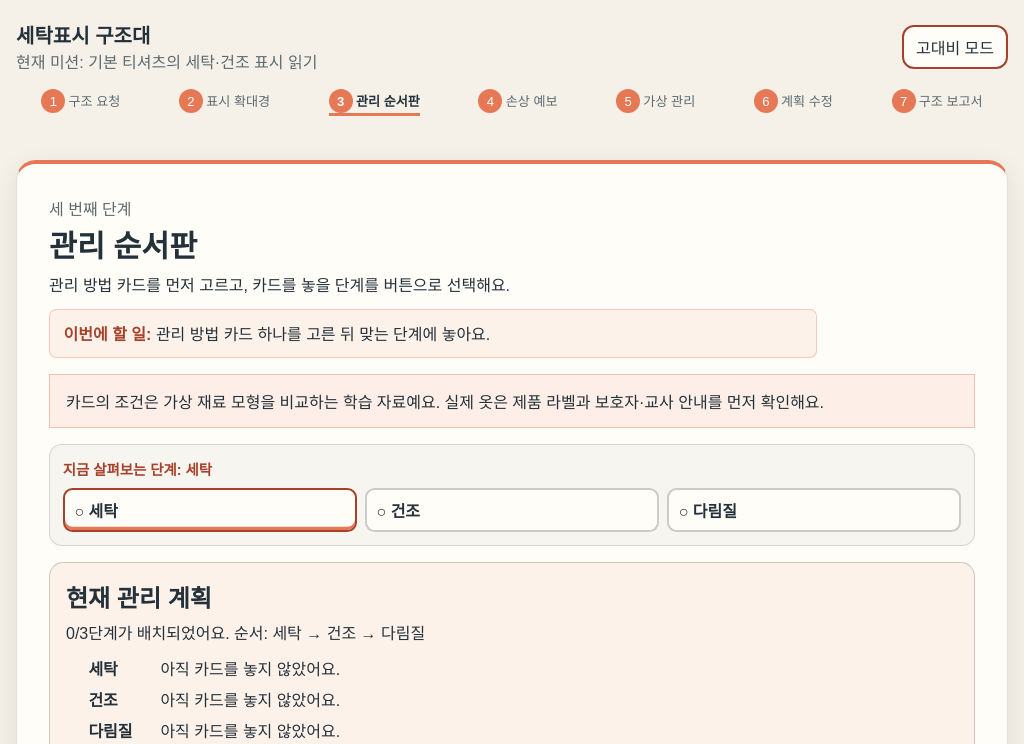
Test case: Task 9 접근 가능한 관리 순서판 › 관리 단계 navigator가 현재 작업 단계와 완료 단계를 문자로 보여 준다
The image size is (1024, 744).
Expected: the text "이번에 할 일: 관리 방법 카드 하나를 고른 뒤 맞는 단계에 놓아요." is shown, left=49, top=309, right=817, bottom=358
Expected: the navigation bar named "관리 단계" is shown, left=49, top=444, right=975, bottom=546
Click the button with aria-label "건조 단계 보기".
click(381, 511)  # box left=365, top=488, right=659, bottom=532
(page scrolled)
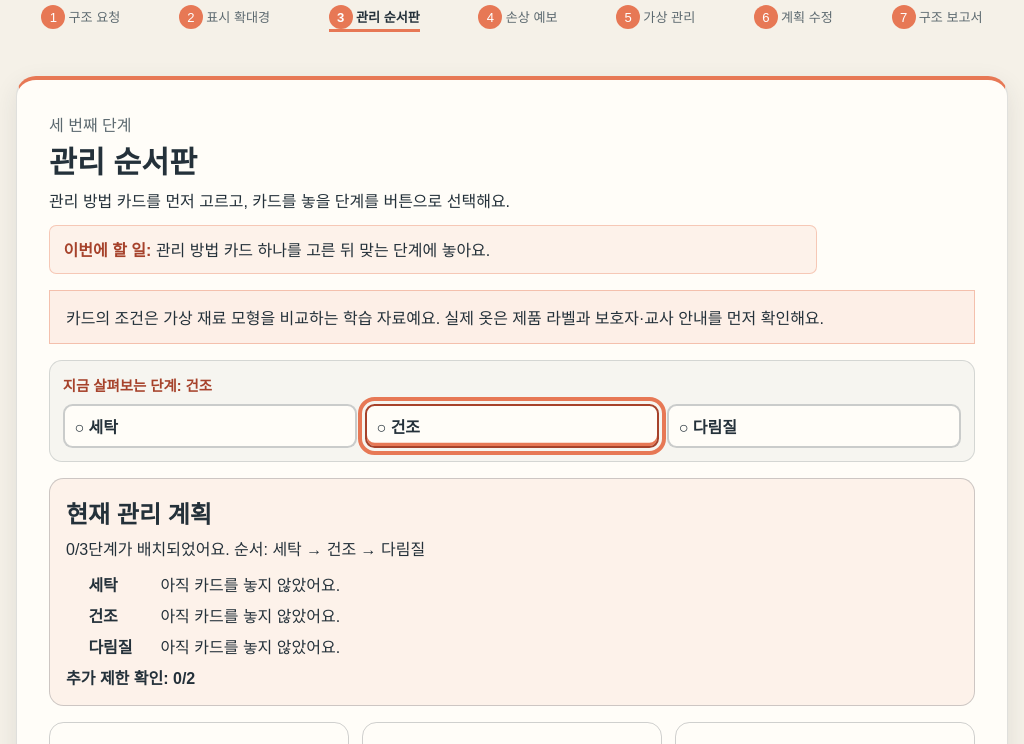
Now the text "지금 살펴보는 단계: 건조" is shown, box left=63, top=378, right=212, bottom=394
